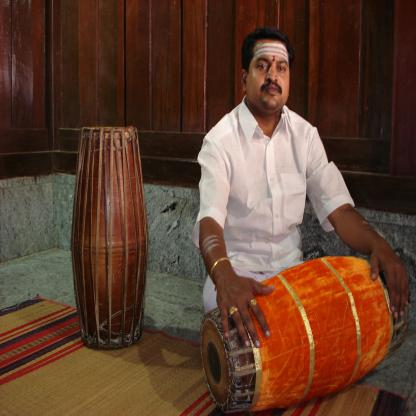Mridangam: (194, 243, 407, 412), (393, 247, 398, 263)
